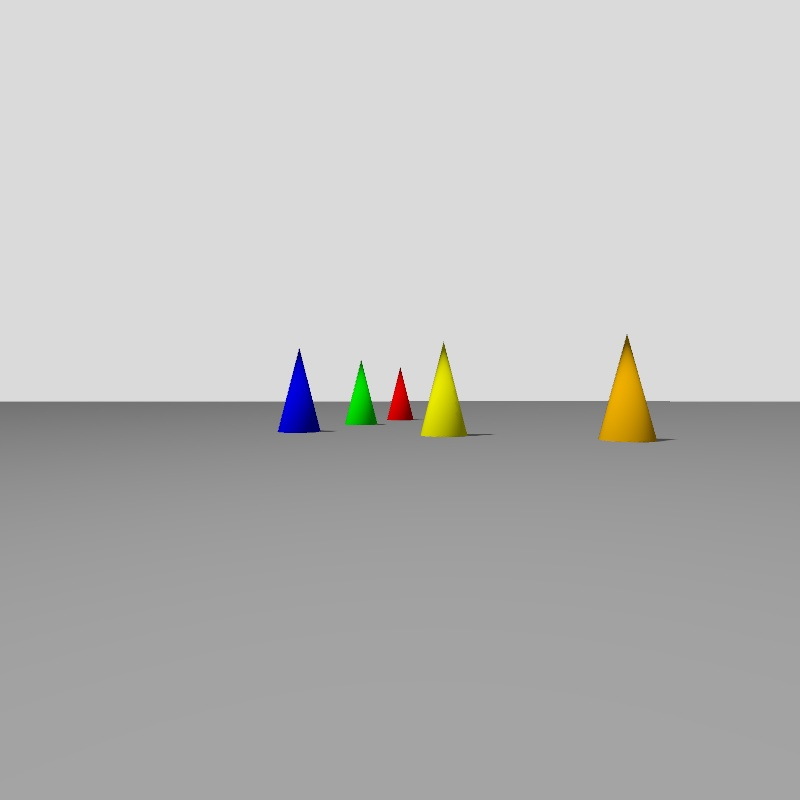Blue_cone: (278, 349, 319, 431)
Green_cone: (345, 362, 376, 424)
Orange_cone: (598, 336, 655, 441)
Red_cone: (387, 369, 413, 420)
Yellow_cone: (420, 343, 467, 436)
